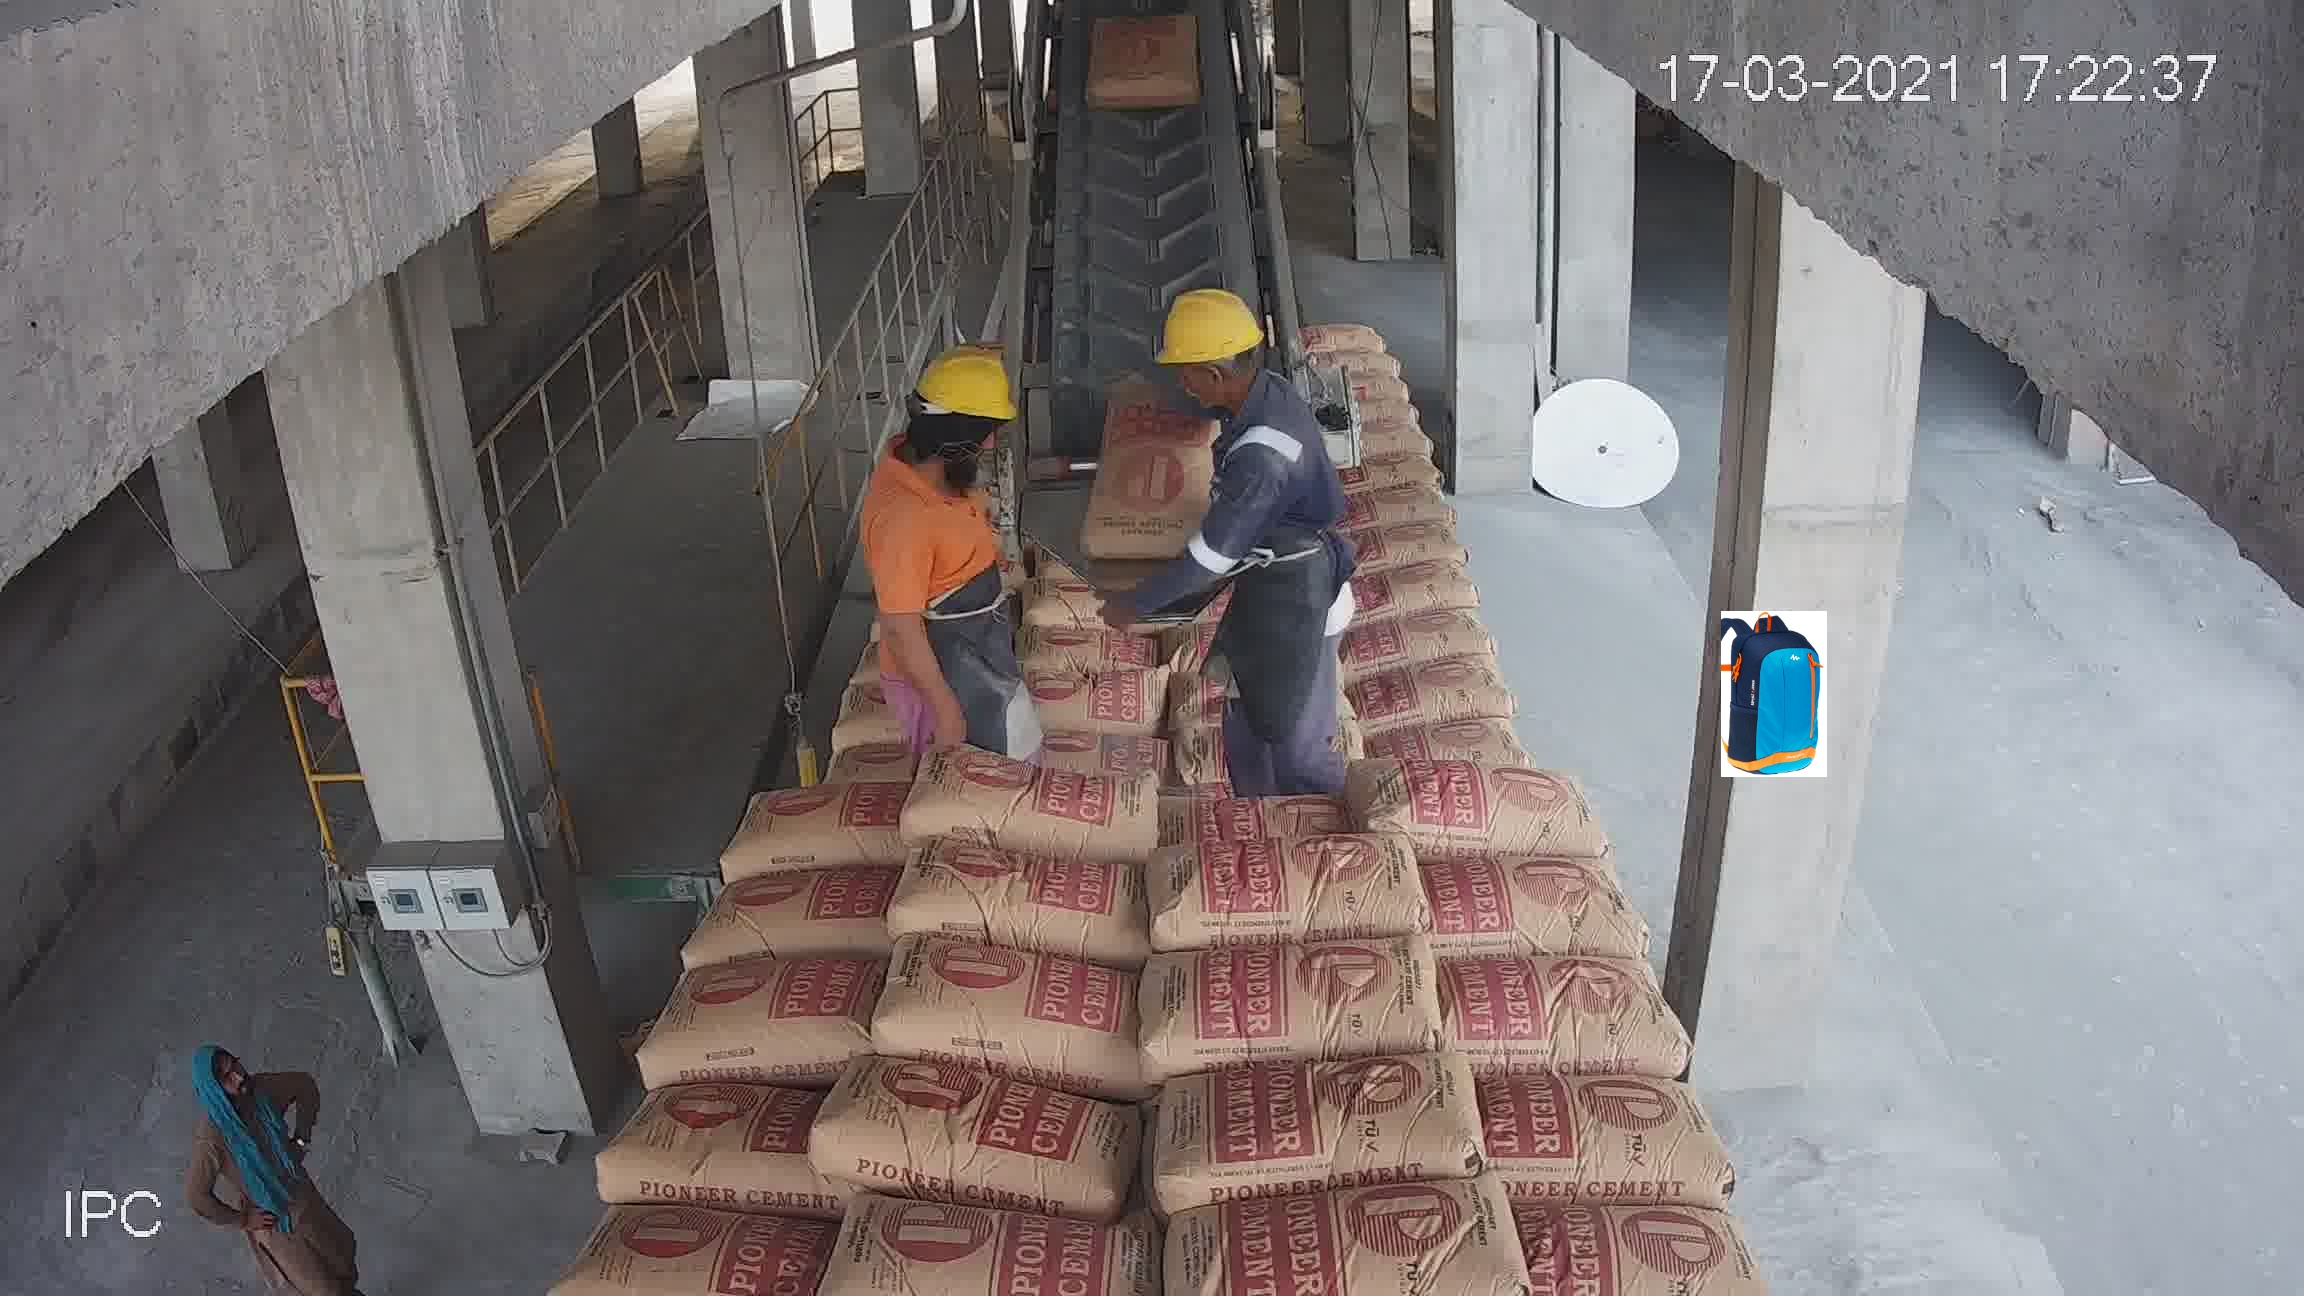bag: (1074, 366, 1215, 498), (1089, 21, 1204, 108)
bag_h: (1143, 1040, 1484, 1211), (1158, 1161, 1495, 1296), (1152, 929, 1438, 1078), (1141, 831, 1438, 970), (886, 940, 1174, 1074), (834, 1177, 1157, 1296), (821, 1082, 1127, 1207), (1141, 720, 1402, 856), (1464, 1065, 1723, 1196), (1437, 945, 1688, 1074), (589, 1078, 813, 1217), (673, 866, 892, 989), (657, 961, 870, 1081), (896, 848, 1157, 946), (1540, 1176, 1733, 1296), (1434, 859, 1644, 968), (1131, 658, 1374, 747), (1381, 774, 1612, 861), (935, 671, 1131, 772), (896, 771, 1119, 856), (560, 1230, 820, 1296), (731, 777, 916, 869), (744, 703, 921, 794), (1383, 676, 1537, 763), (1293, 570, 1476, 639), (1331, 590, 1495, 666), (1301, 465, 1448, 536), (1021, 525, 1184, 582), (1051, 609, 1199, 668), (1329, 516, 1487, 568), (1301, 446, 1443, 502), (1302, 411, 1426, 460), (926, 423, 1029, 479), (1025, 573, 1177, 611), (949, 459, 1048, 514), (1309, 388, 1419, 426)
belt: (1025, 25, 1269, 423)
